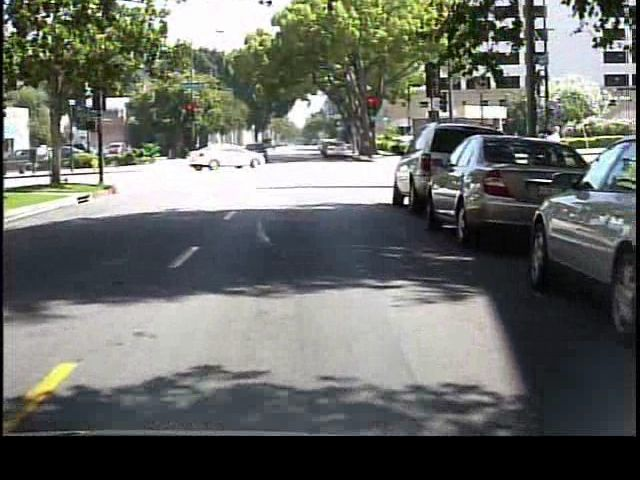person: (259, 140, 275, 171)
